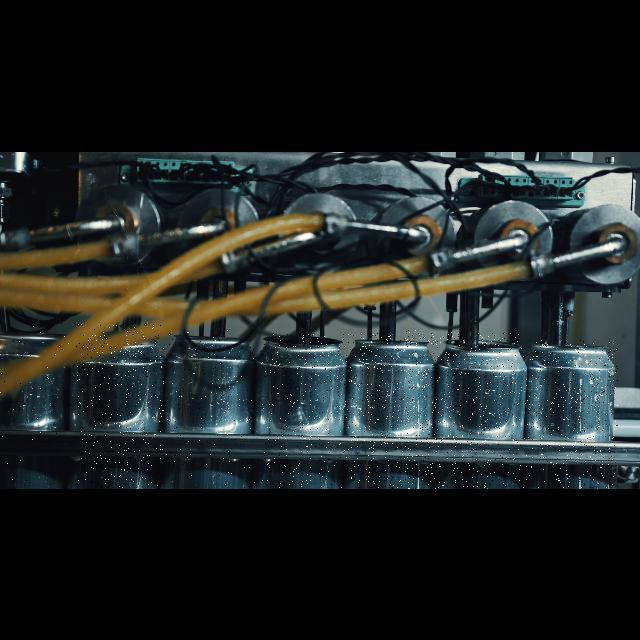empty: (346, 329, 438, 489), (166, 329, 258, 489), (76, 324, 164, 488), (524, 340, 618, 488), (437, 332, 525, 488), (262, 334, 350, 488), (0, 322, 72, 488)
